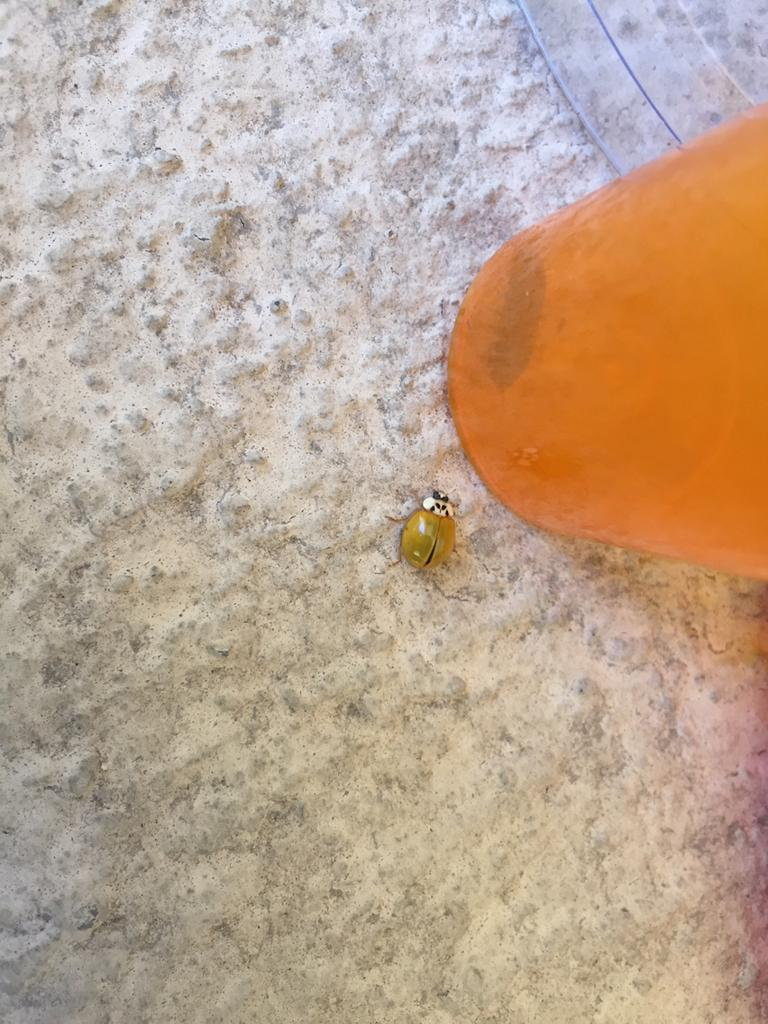ladybug: (383, 487, 463, 575)
